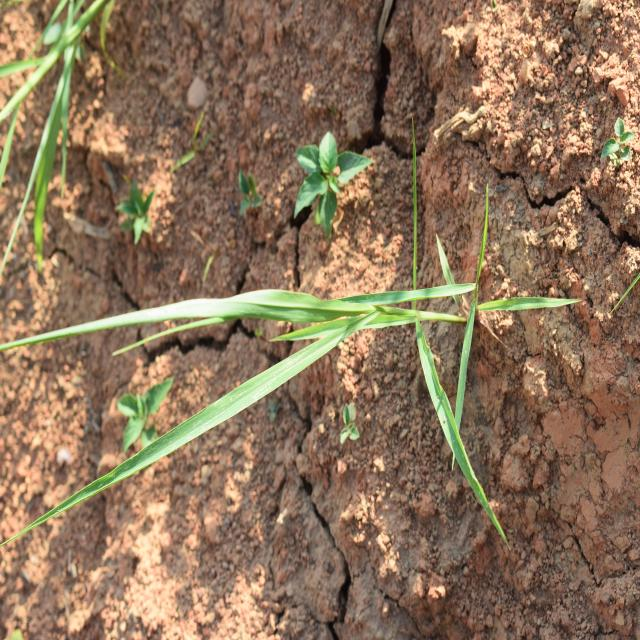green_foxtail: (49, 205, 508, 502)
